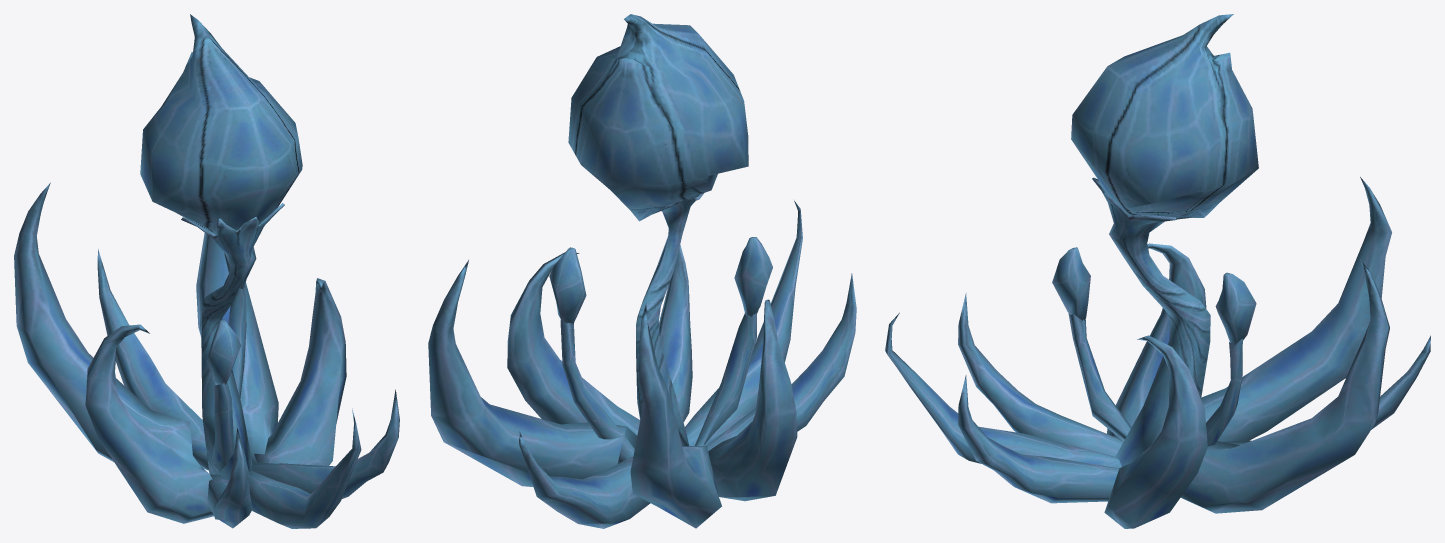
The model's file is Arctic Plant.fbx.
3 renders of one model, left to right at view 1: azimuth 30°, elevation 25°; view 2: azimuth 150°, elevation 25°; view 3: azimuth 270°, elevation 25°, orthographic. The views are drawn at different scales.
Parts seen in each view (by area): view 1: node_id5; view 2: node_id5; view 3: node_id5.
Part boxes in pixels (x1,y1,x2,y2): node_id5: (14, 14, 399, 528); node_id5: (428, 14, 856, 528); node_id5: (885, 14, 1430, 528).
Size of the model in its own units: 0.00324 by 0.00545 by 0.00556.
1 material, 1 textured.
